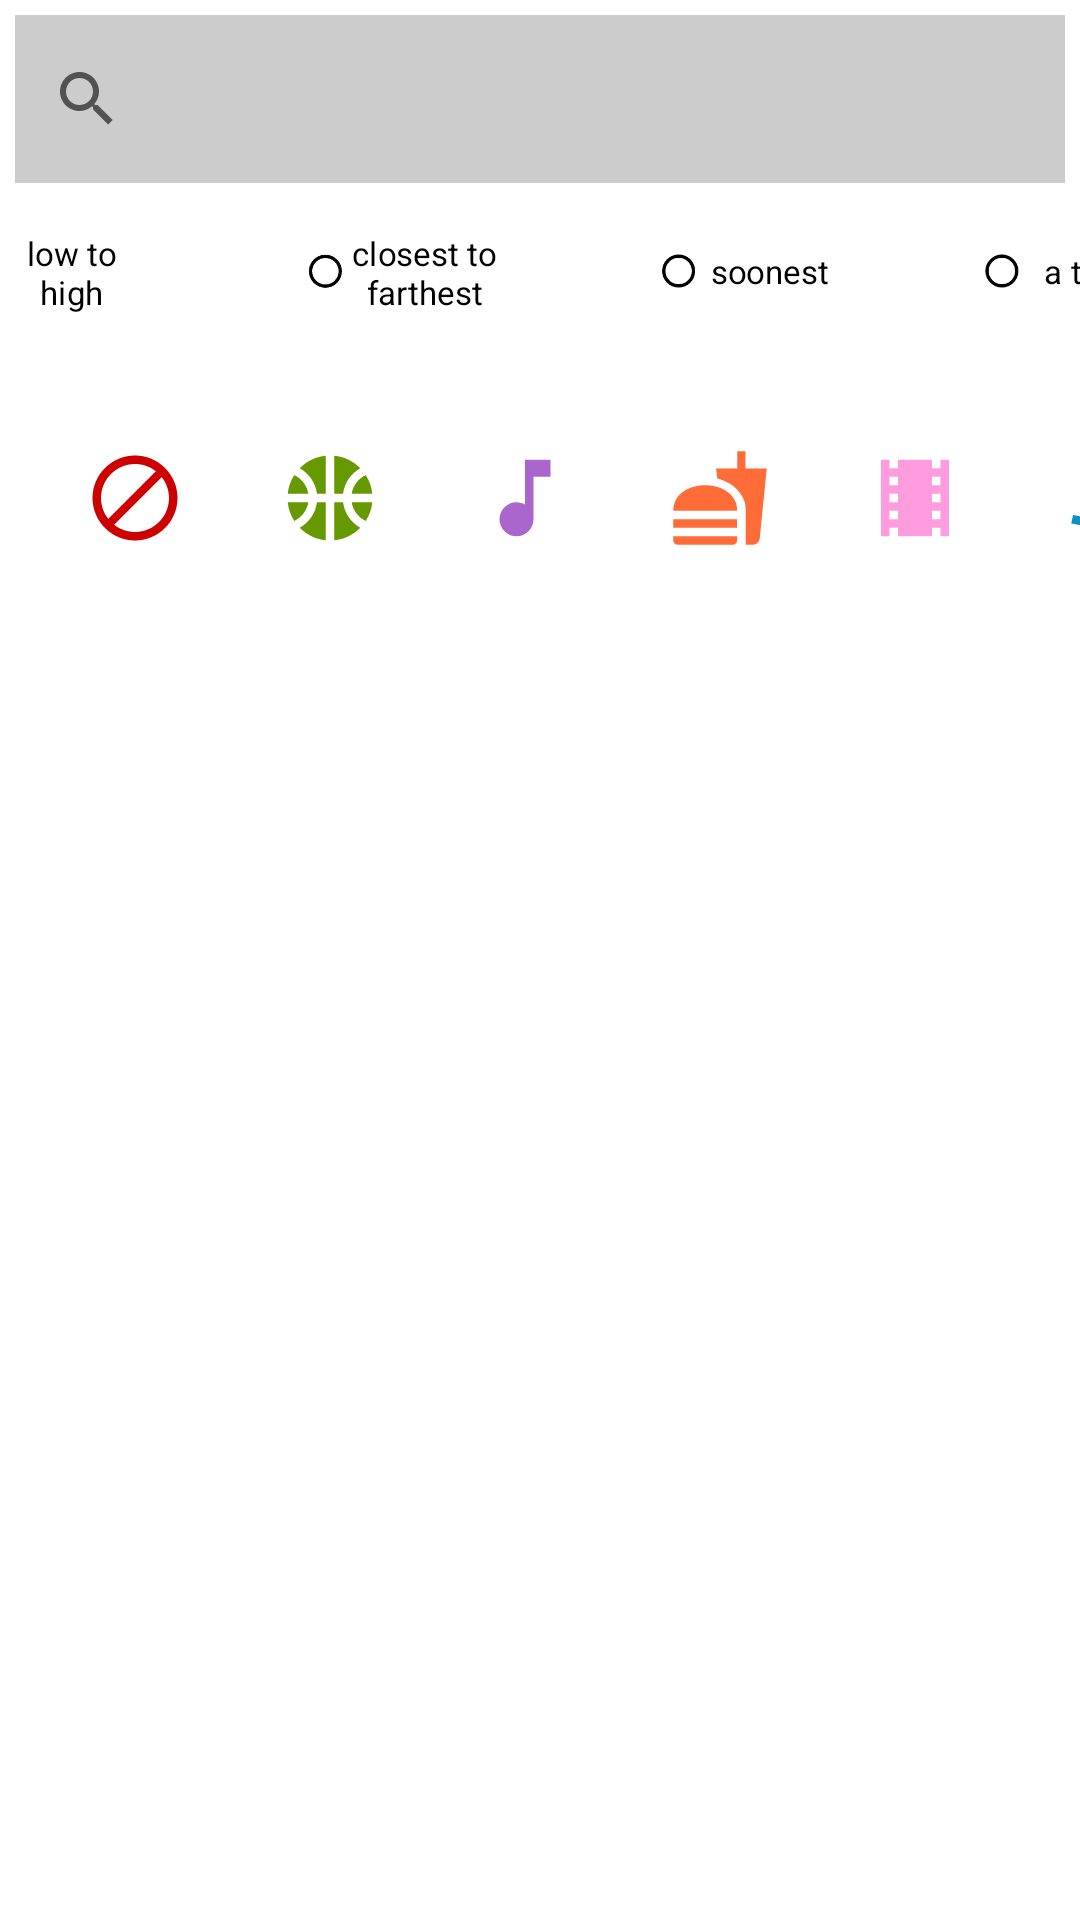

Named icons in this screenshot (1080x1920) and their centers, point (x, y):
do not disturb: point (135, 498)
fastfood: point (720, 498)
local movies: point (915, 498)
music note: point (525, 498)
sports basketball: point (330, 498)
